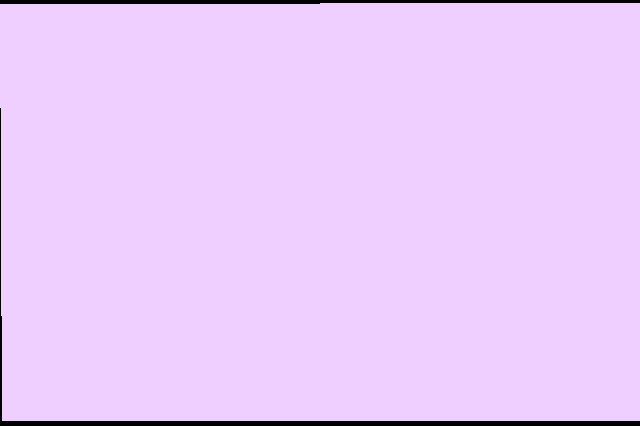Train: (0, 2, 640, 421)
